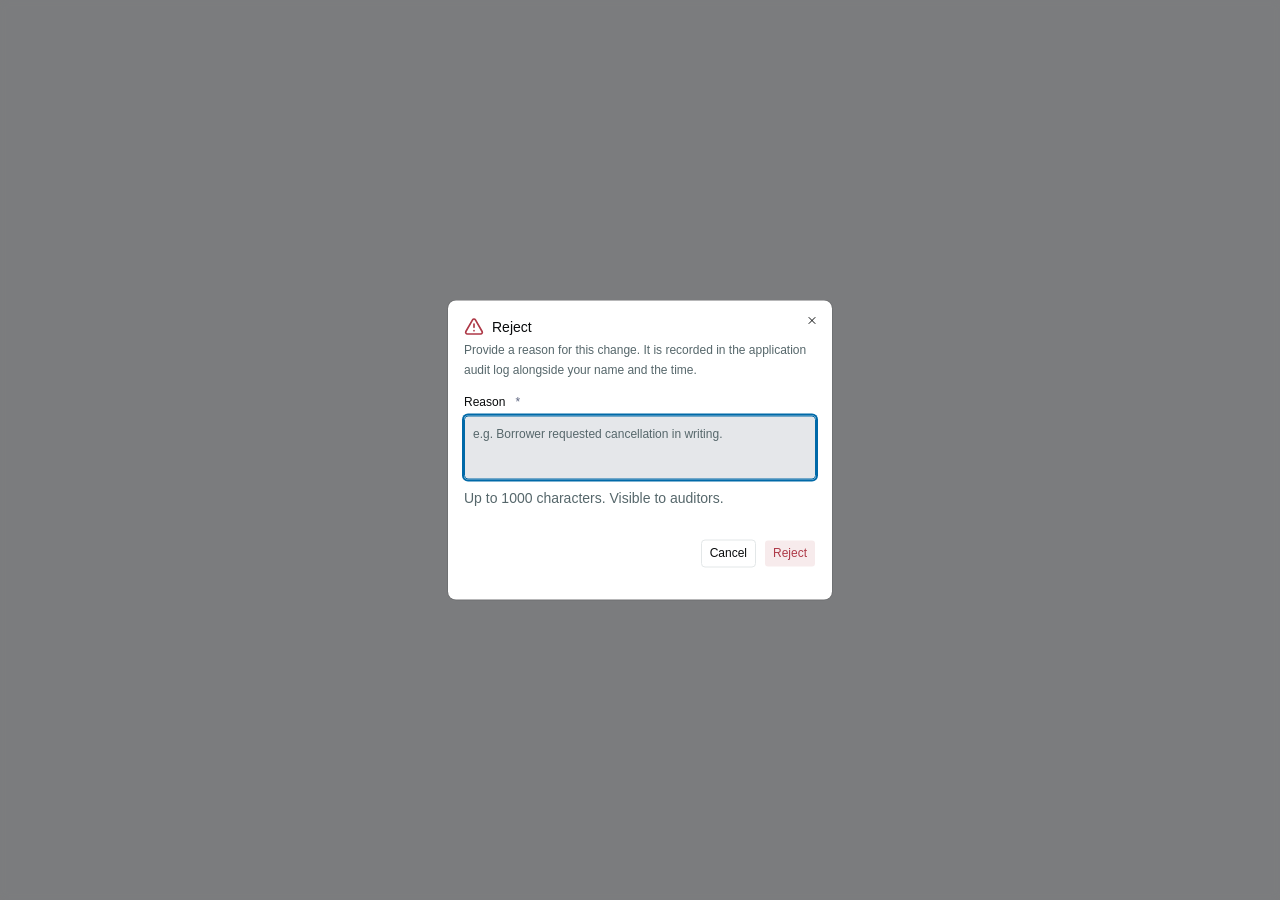
Test case: <TransitionConfirmDialog /> › blocks submit when reason is required and empty
Click the button "Reject" at x=790, y=554, box [764, 540, 816, 568]
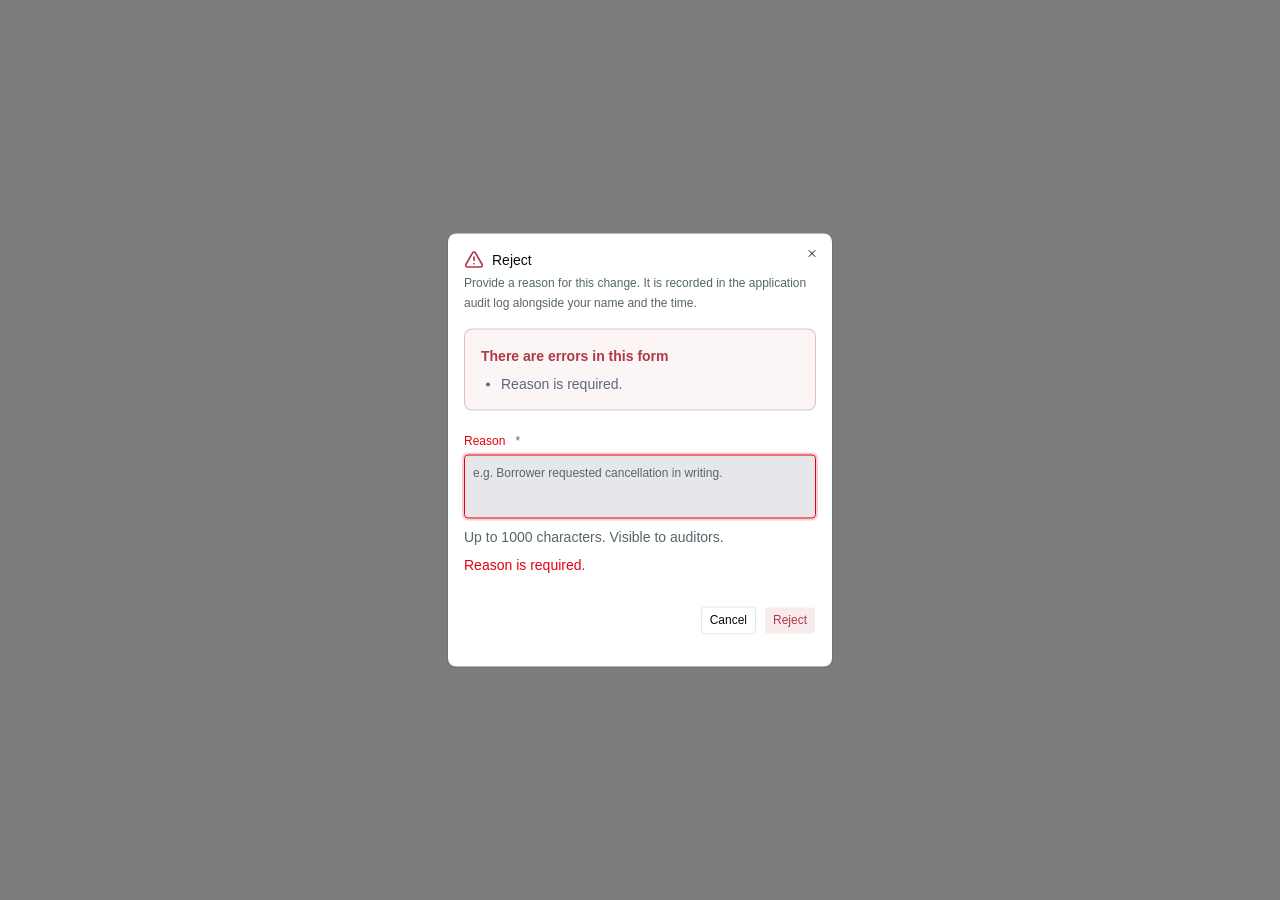
Now the list item "Reason is required." is shown, box [501, 376, 622, 392]
